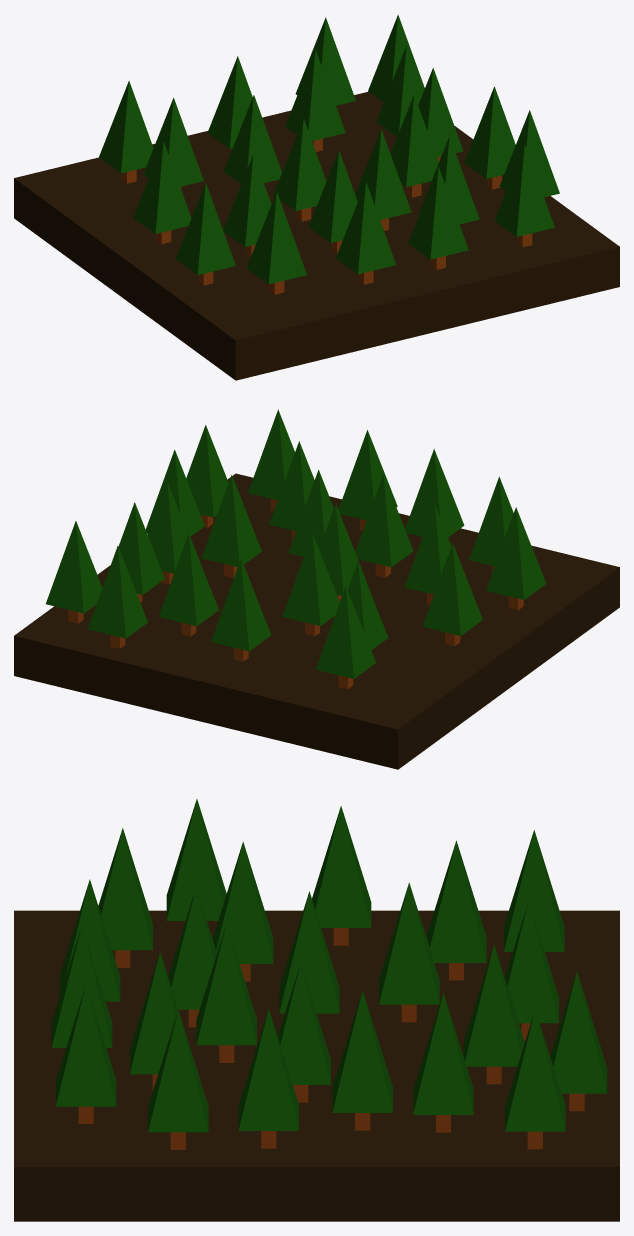
The model's file is Forest.obj.
3 views of the same model, one above another, from view 1: azimuth 30°, elevation 25°; view 2: azimuth 150°, elevation 25°; view 3: azimuth 270°, elevation 25° (orthographic). The views are drawn at different scales.
Parts seen in each view (by area): view 1: Tilebase100, Pyramid410, Pyramid415, Pyramid393, Pyramid409, Pyramid413, Pyramid404, Pyramid403, Pyramid399, Pyramid395, Pyramid406, Pyramid396 (+12 smaller); view 2: Tilebase100, Pyramid403, Pyramid399, Pyramid401, Pyramid412, Pyramid404, Pyramid413, Pyramid414, Pyramid396, Pyramid400, Pyramid411, Pyramid415 (+12 smaller); view 3: Tilebase100, Pyramid407, Pyramid408, Pyramid409, Pyramid411, Pyramid400, Pyramid406, Pyramid397, Pyramid405, Pyramid399, Pyramid402, Pyramid404 (+12 smaller).
Part boxes in pixels (box(x1,y1,x2,y2)): Tilebase100: box(14, 91, 619, 380); Pyramid410: box(408, 167, 468, 259); Pyramid415: box(336, 182, 395, 274); Pyramid393: box(247, 191, 306, 284); Pyramid409: box(494, 144, 554, 236); Pyramid413: box(175, 182, 235, 275); Pyramid404: box(133, 141, 191, 233); Pyramid403: box(99, 80, 153, 173); Pyramid399: box(285, 49, 345, 141); Pyramid395: box(273, 118, 326, 211); Pyramid406: box(464, 86, 515, 178); Pyramid396: box(390, 94, 438, 187); Tilebase100: box(14, 473, 619, 769); Pyramid403: box(315, 586, 375, 678); Pyramid399: box(158, 533, 218, 626); Pyramid401: box(211, 558, 270, 651); Pyramid412: box(88, 546, 147, 638); Pyramid404: box(422, 543, 482, 635); Pyramid413: box(486, 507, 546, 599); Pyramid414: box(355, 474, 413, 567); Pyramid396: box(201, 475, 261, 567); Pyramid400: box(282, 533, 339, 625); Pyramid411: box(46, 521, 102, 613); Pyramid415: box(405, 449, 464, 537); Tilebase100: box(14, 910, 619, 1221); Pyramid407: box(196, 923, 256, 1045); Pyramid408: box(148, 1010, 208, 1132); Pyramid409: box(56, 984, 116, 1106); Pyramid411: box(505, 1009, 565, 1131); Pyramid400: box(379, 882, 439, 1004); Pyramid406: box(238, 1008, 298, 1130); Pyramid397: box(413, 992, 473, 1114); Pyramid405: box(332, 991, 392, 1112); Pyramid399: box(463, 944, 524, 1066); Pyramid402: box(426, 840, 486, 962); Pyramid404: box(312, 806, 371, 927).
Size of the model in its own units: 10 by 3.5 by 10.
